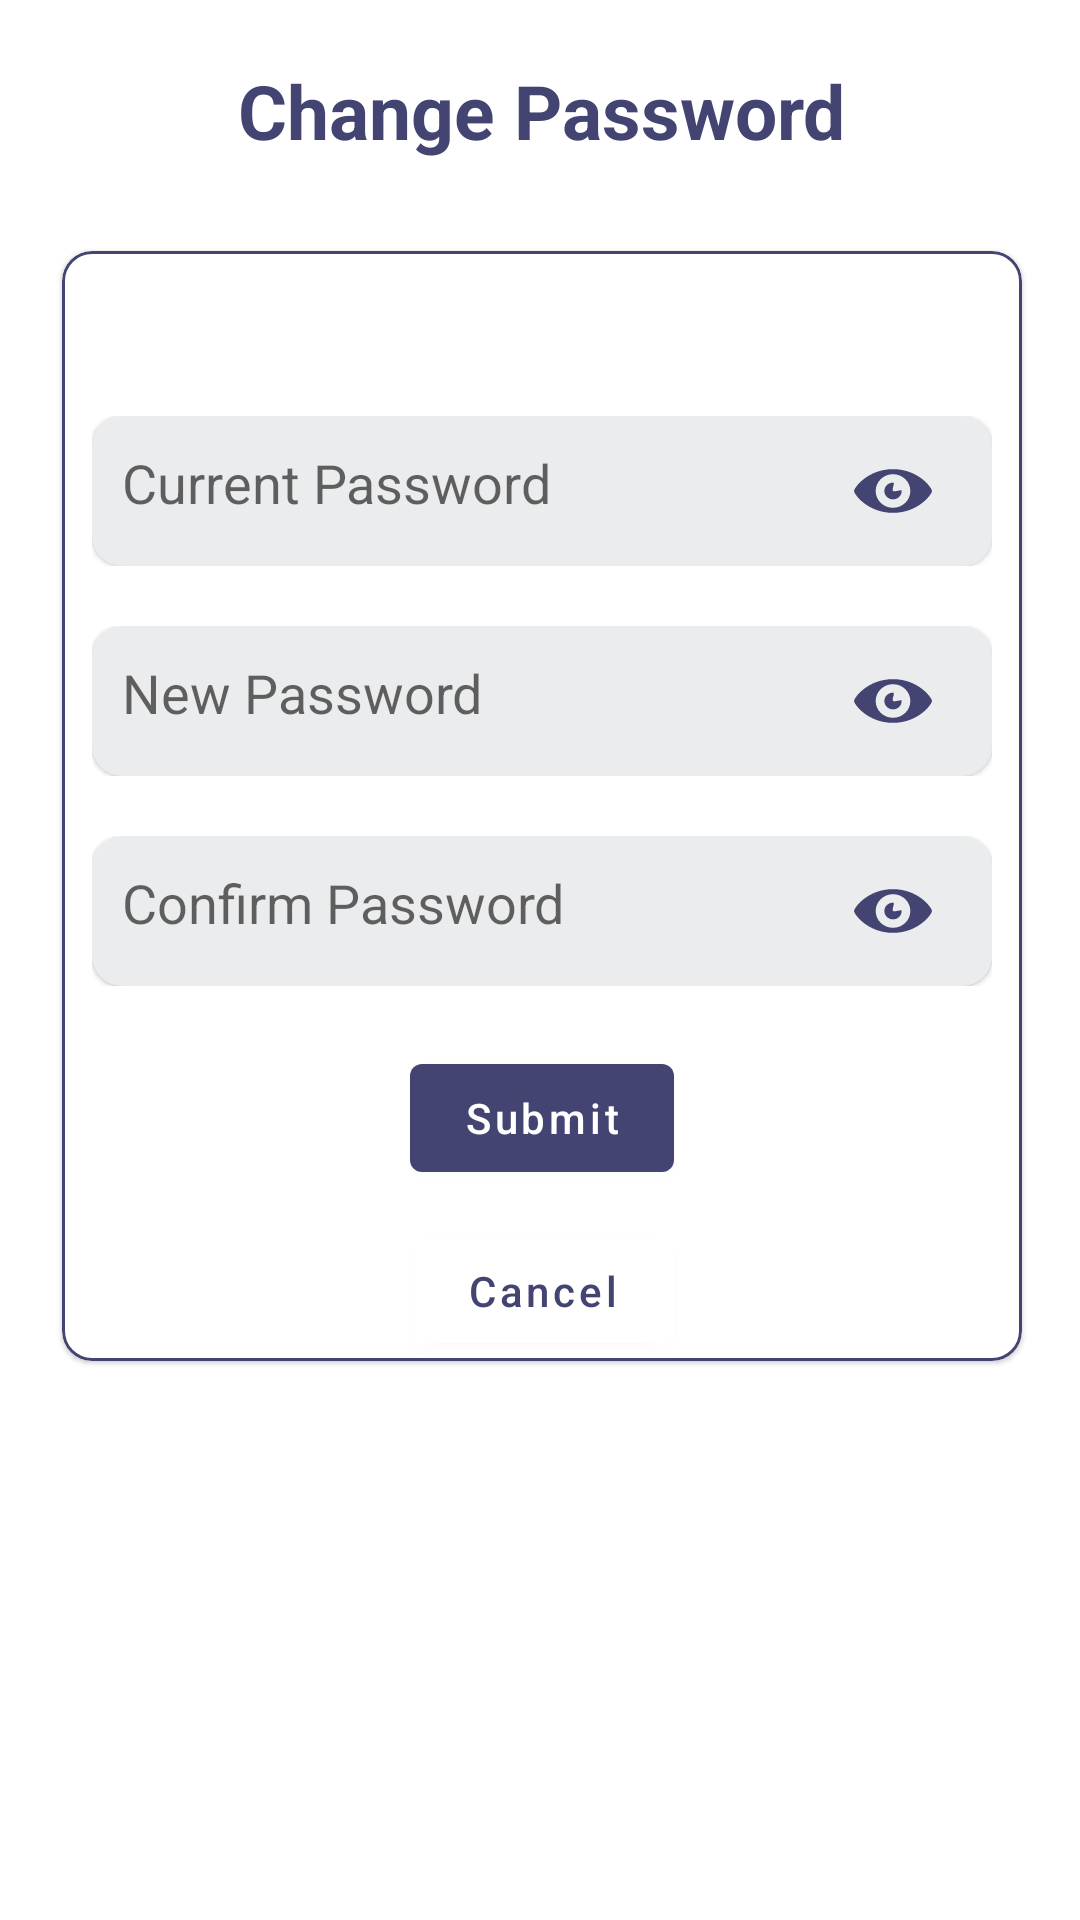

Screen size 1080×1920. Icon name, then its center in pixels as (x=x, y=y):
Show Password: (x=893, y=491), (x=893, y=701), (x=893, y=911)
